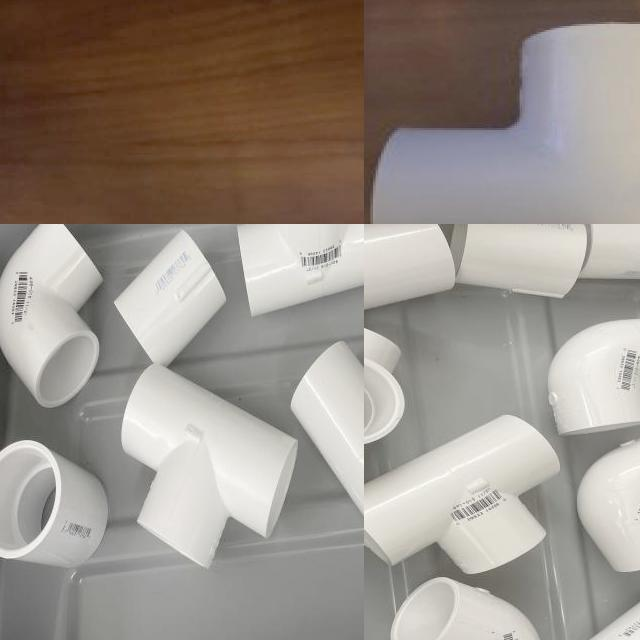L Joint: (0, 224, 104, 410), (546, 319, 640, 438), (388, 578, 540, 640), (578, 439, 640, 576)
T Joint: (369, 24, 640, 224), (120, 364, 299, 570), (364, 413, 561, 575), (289, 343, 364, 522), (236, 224, 364, 319), (364, 224, 455, 311)
